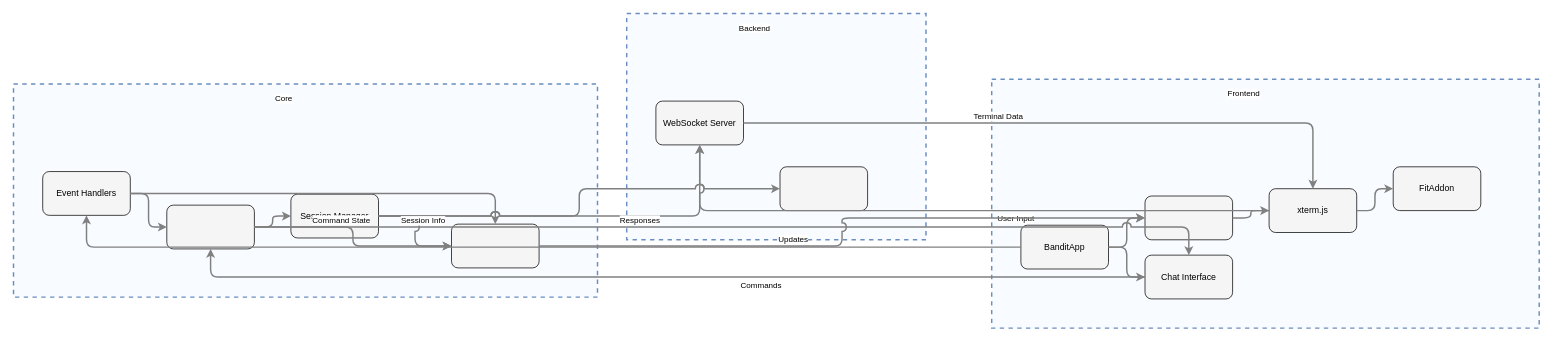
This 1552x341 diagram has some shape labels left out. Each missing label, with the box of its shape:
Command Processor: (166, 204, 254, 249)
File System: (779, 166, 868, 211)
Terminal State: (451, 223, 539, 268)
Terminal UI: (1144, 195, 1233, 240)
